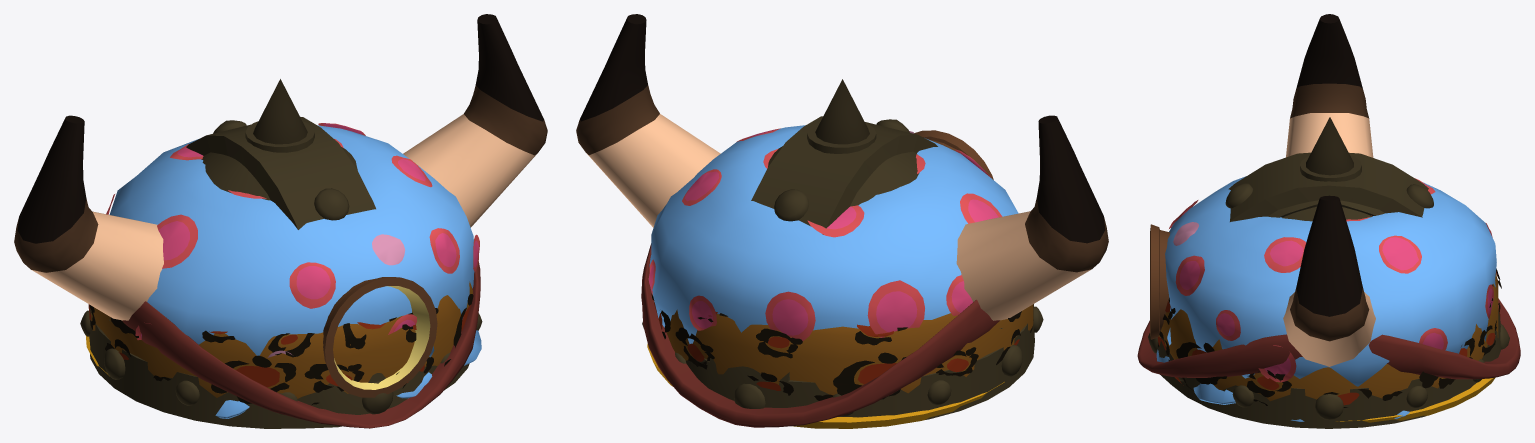
File: hATS.fbx
3 renders of one model, left to right at view 1: azimuth 30°, elevation 25°; view 2: azimuth 150°, elevation 25°; view 3: azimuth 270°, elevation 25°, orthographic. The views are drawn at different scales.
Parts seen in each view (by area): view 1: VikingHelmet, ShowerCap, PillboxHat, CowboyHat, MinerHat; view 2: VikingHelmet, ShowerCap, PillboxHat, CowboyHat, MinerHat; view 3: VikingHelmet, ShowerCap, CowboyHat, PillboxHat, MinerHat.
Boxes of the visible parts, bbox=[...] form: VikingHelmet: bbox=[14, 14, 547, 428]; ShowerCap: bbox=[106, 123, 481, 418]; PillboxHat: bbox=[88, 281, 473, 405]; CowboyHat: bbox=[122, 261, 480, 428]; MinerHat: bbox=[85, 277, 437, 397]; VikingHelmet: bbox=[576, 14, 1108, 419]; ShowerCap: bbox=[648, 125, 1018, 343]; PillboxHat: bbox=[651, 293, 1033, 400]; CowboyHat: bbox=[641, 243, 999, 427]; MinerHat: bbox=[647, 130, 1004, 428]; VikingHelmet: bbox=[1148, 14, 1509, 428]; ShowerCap: bbox=[1156, 176, 1496, 421]; CowboyHat: bbox=[1137, 298, 1520, 379]; PillboxHat: bbox=[1157, 268, 1501, 407]; MinerHat: bbox=[1150, 224, 1495, 422].
Bounding box in the file's own units: 127 × 65.42 × 90.95.
